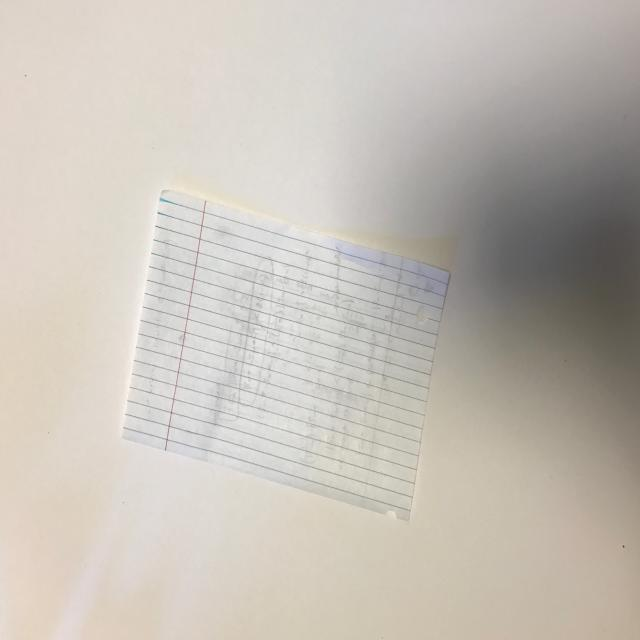paper: (93, 130, 494, 536)
